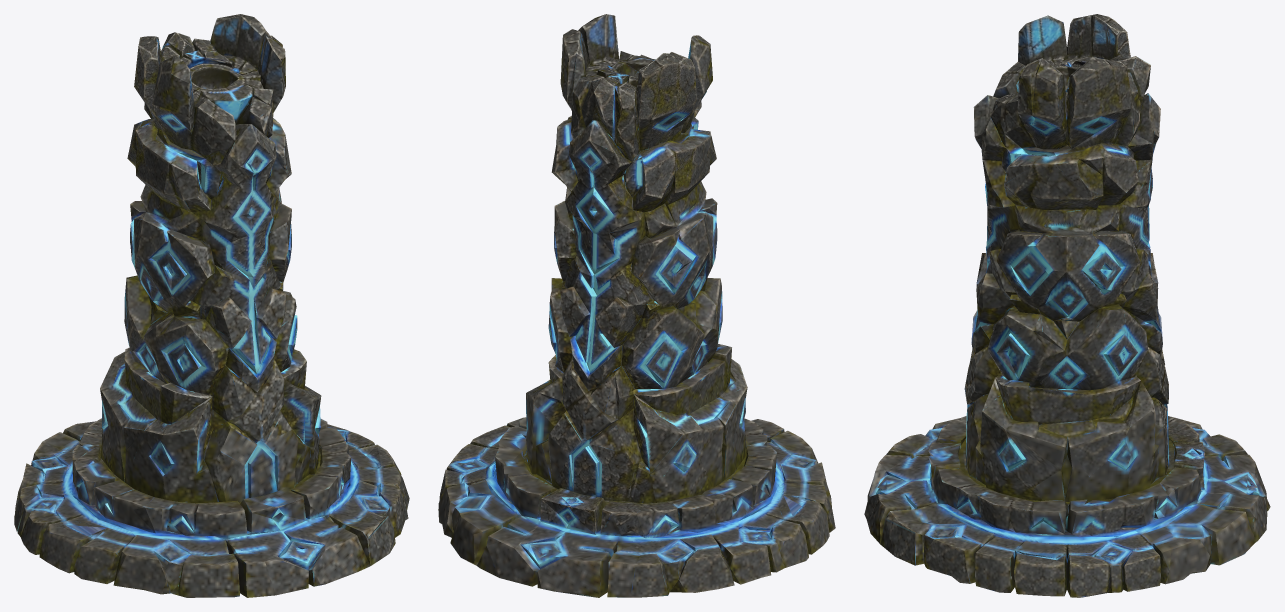
Rendered from totem-3.glb.
3 views of the same model, side by side, from view 1: azimuth 30°, elevation 25°; view 2: azimuth 150°, elevation 25°; view 3: azimuth 270°, elevation 25° (orthographic).
Parts seen in each view (by area): view 1: output_unwrapped; view 2: output_unwrapped; view 3: output_unwrapped.
Boxes of the visible parts, x1,y1,x2,y2 form: output_unwrapped: [14, 14, 409, 597]; output_unwrapped: [438, 14, 835, 597]; output_unwrapped: [864, 14, 1270, 597].
Bounding box in the file's own units: 1.46 × 1.9 × 1.47.
Materials: 1 (1 with a texture image).
